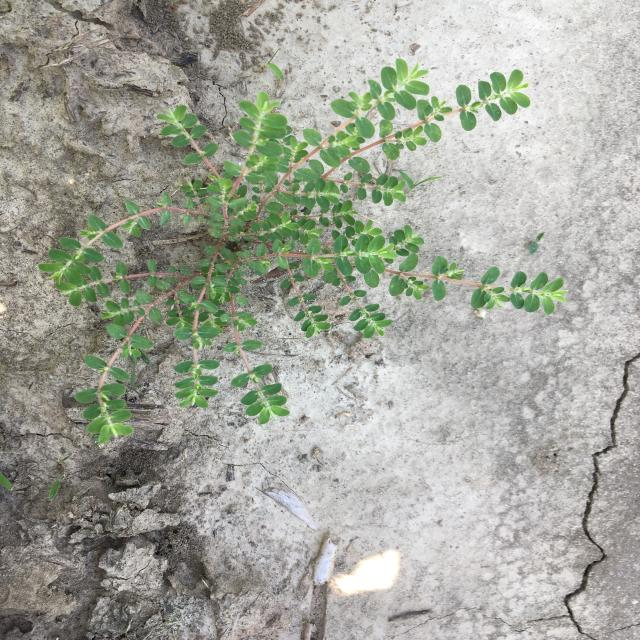SpottedSpurge: (38, 58, 570, 446)
